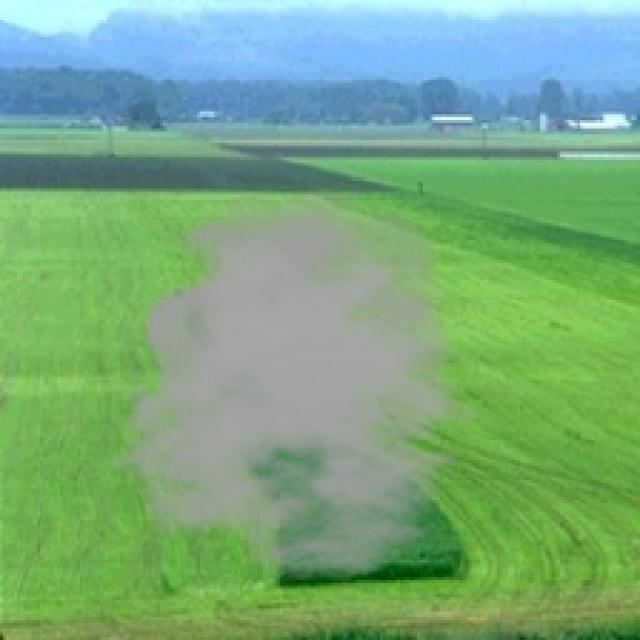smoke: (108, 188, 503, 583)
